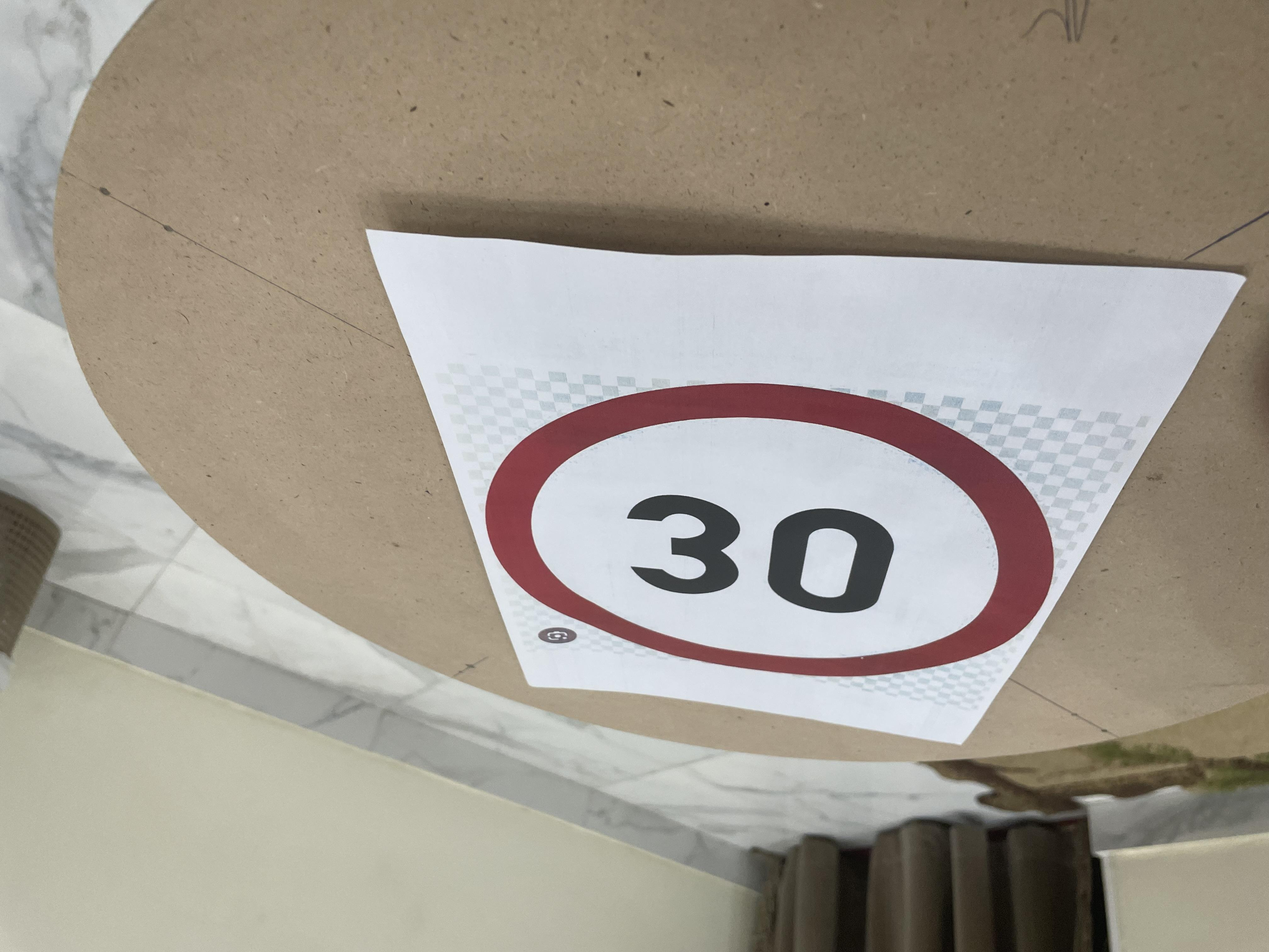30-speed: (199, 257, 799, 575)
